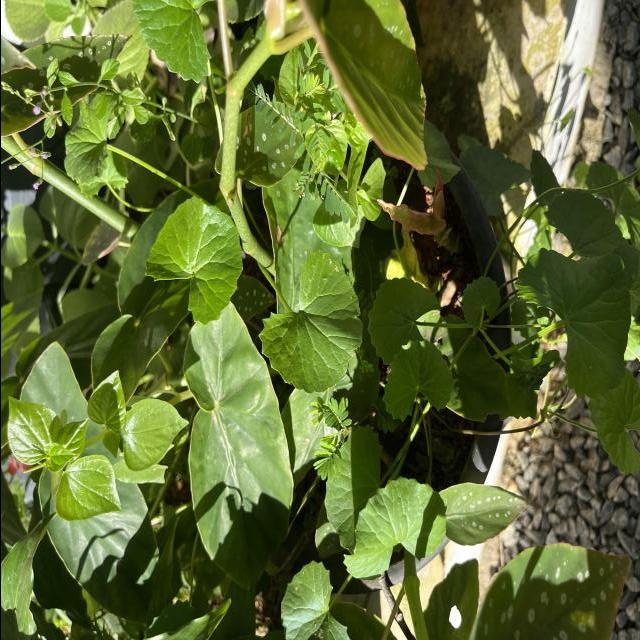Centella asiatica: (511, 246, 633, 402), (255, 245, 364, 396), (142, 192, 246, 328), (365, 276, 443, 368), (380, 338, 456, 424)
